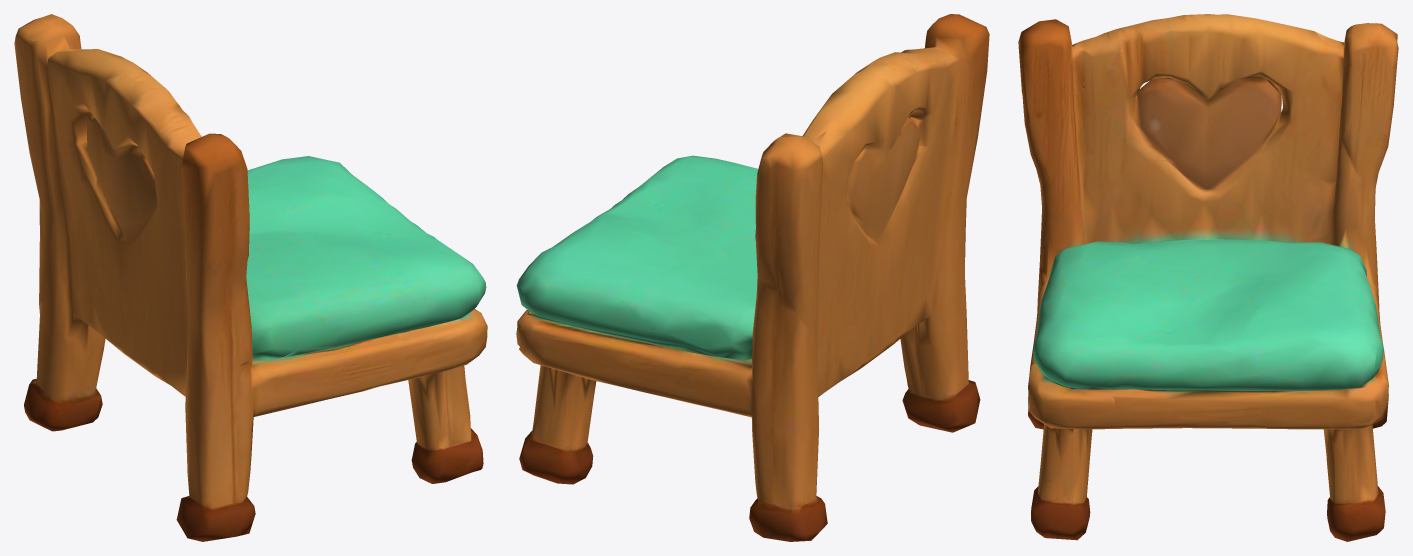
The model's file is chair.glb.
3 renders of one model, left to right at view 1: azimuth 30°, elevation 25°; view 2: azimuth 150°, elevation 25°; view 3: azimuth 270°, elevation 25°, orthographic. The views are drawn at different scales.
Visible parts, largest first — view 1: tripo_node_d2b52278-90e9-476a-b7e5-9c59b61a5cf4; view 2: tripo_node_d2b52278-90e9-476a-b7e5-9c59b61a5cf4; view 3: tripo_node_d2b52278-90e9-476a-b7e5-9c59b61a5cf4.
Boxes of the visible parts, <box> form: tripo_node_d2b52278-90e9-476a-b7e5-9c59b61a5cf4: <box>14,14,487,541</box>; tripo_node_d2b52278-90e9-476a-b7e5-9c59b61a5cf4: <box>516,14,989,541</box>; tripo_node_d2b52278-90e9-476a-b7e5-9c59b61a5cf4: <box>1018,14,1398,541</box>.
Size of the model in its own units: 0.7898 by 1 by 0.8652.
1 material, 1 textured.
